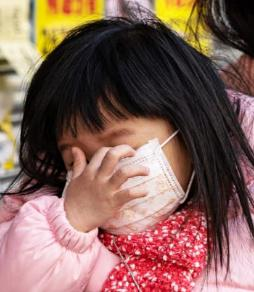OK: (58, 107, 184, 242)
